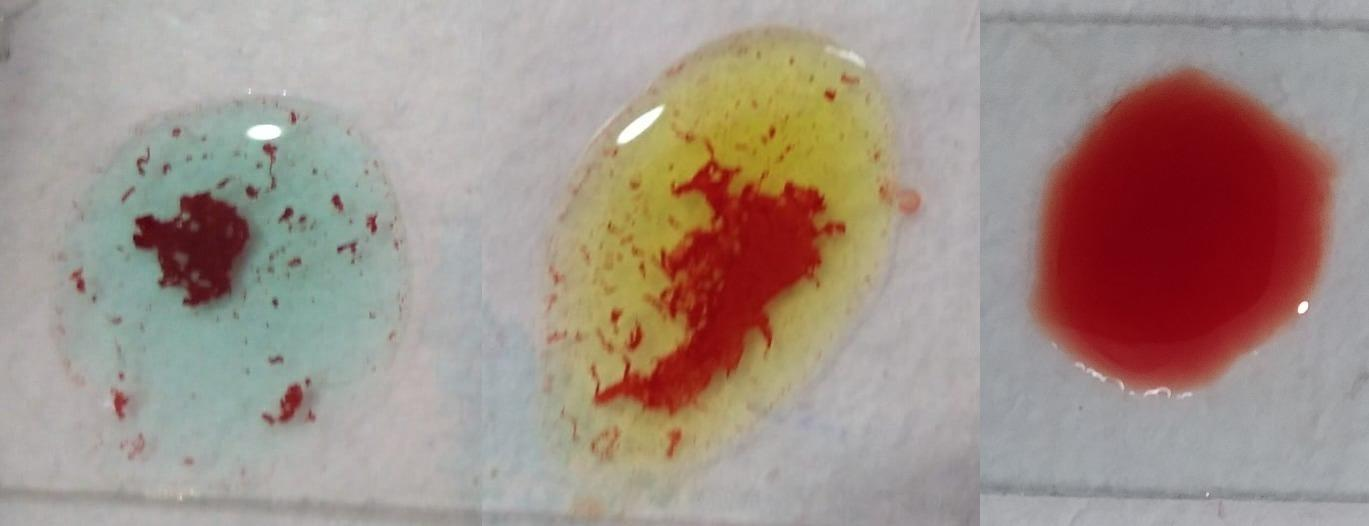A: (58, 93, 411, 470)
B: (552, 26, 887, 489)
